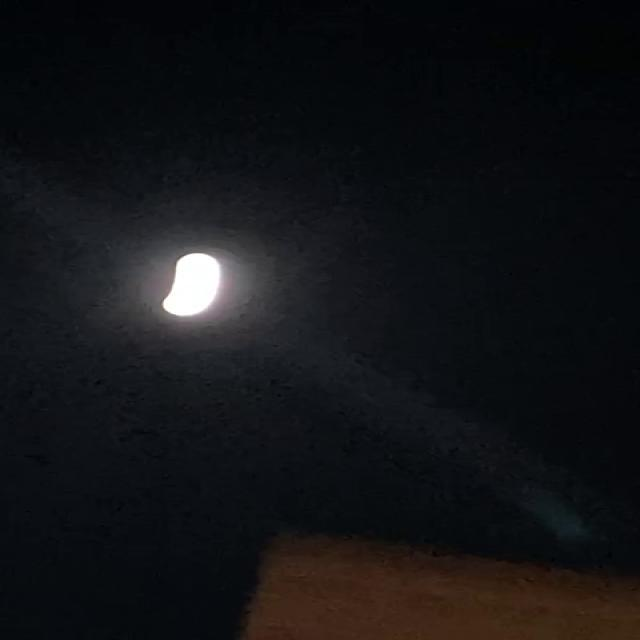moon: (153, 244, 244, 318)
